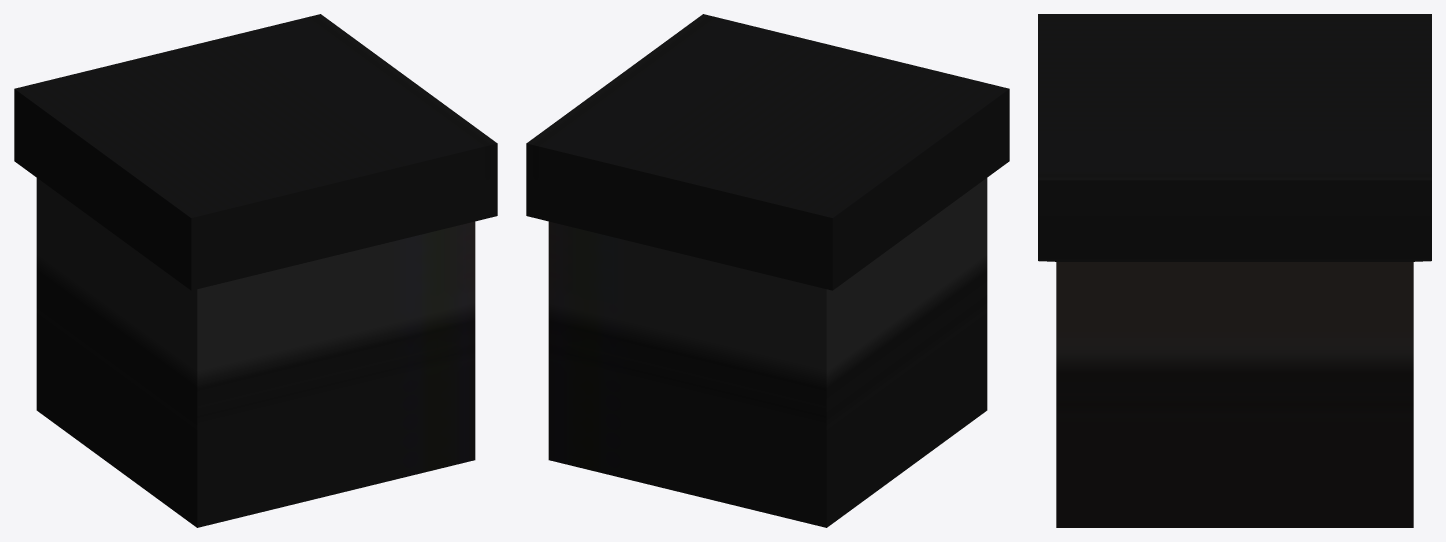
File: Asfalto_0.glb
The picture shows the model from 3 angles, left to right: view 1: azimuth 30°, elevation 25°; view 2: azimuth 150°, elevation 25°; view 3: azimuth 270°, elevation 25°; orthographic projection. The views are drawn at different scales.
Visible parts, largest first — view 1: Asfalto_0; view 2: Asfalto_0; view 3: Asfalto_0.
Boxes of the visible parts, left/top/right/bottom form: Asfalto_0: left=14, top=14, right=497, bottom=527; Asfalto_0: left=526, top=14, right=1009, bottom=527; Asfalto_0: left=1038, top=14, right=1431, bottom=527.
Size of the model in its own units: 2 by 1.99 by 2.
1 material, 1 textured.
